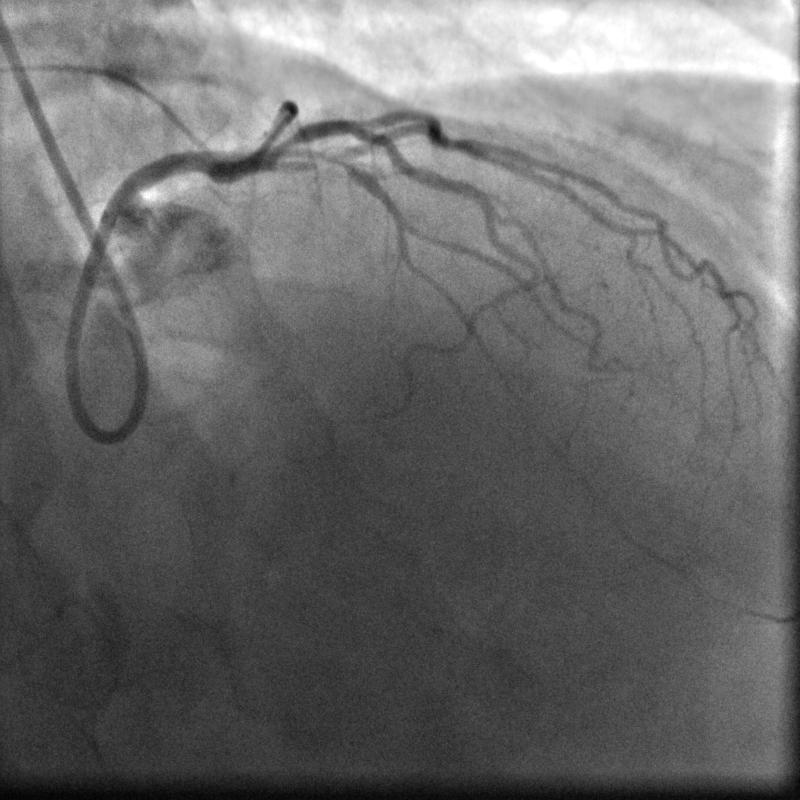Stenosis: (273, 129, 305, 159)
